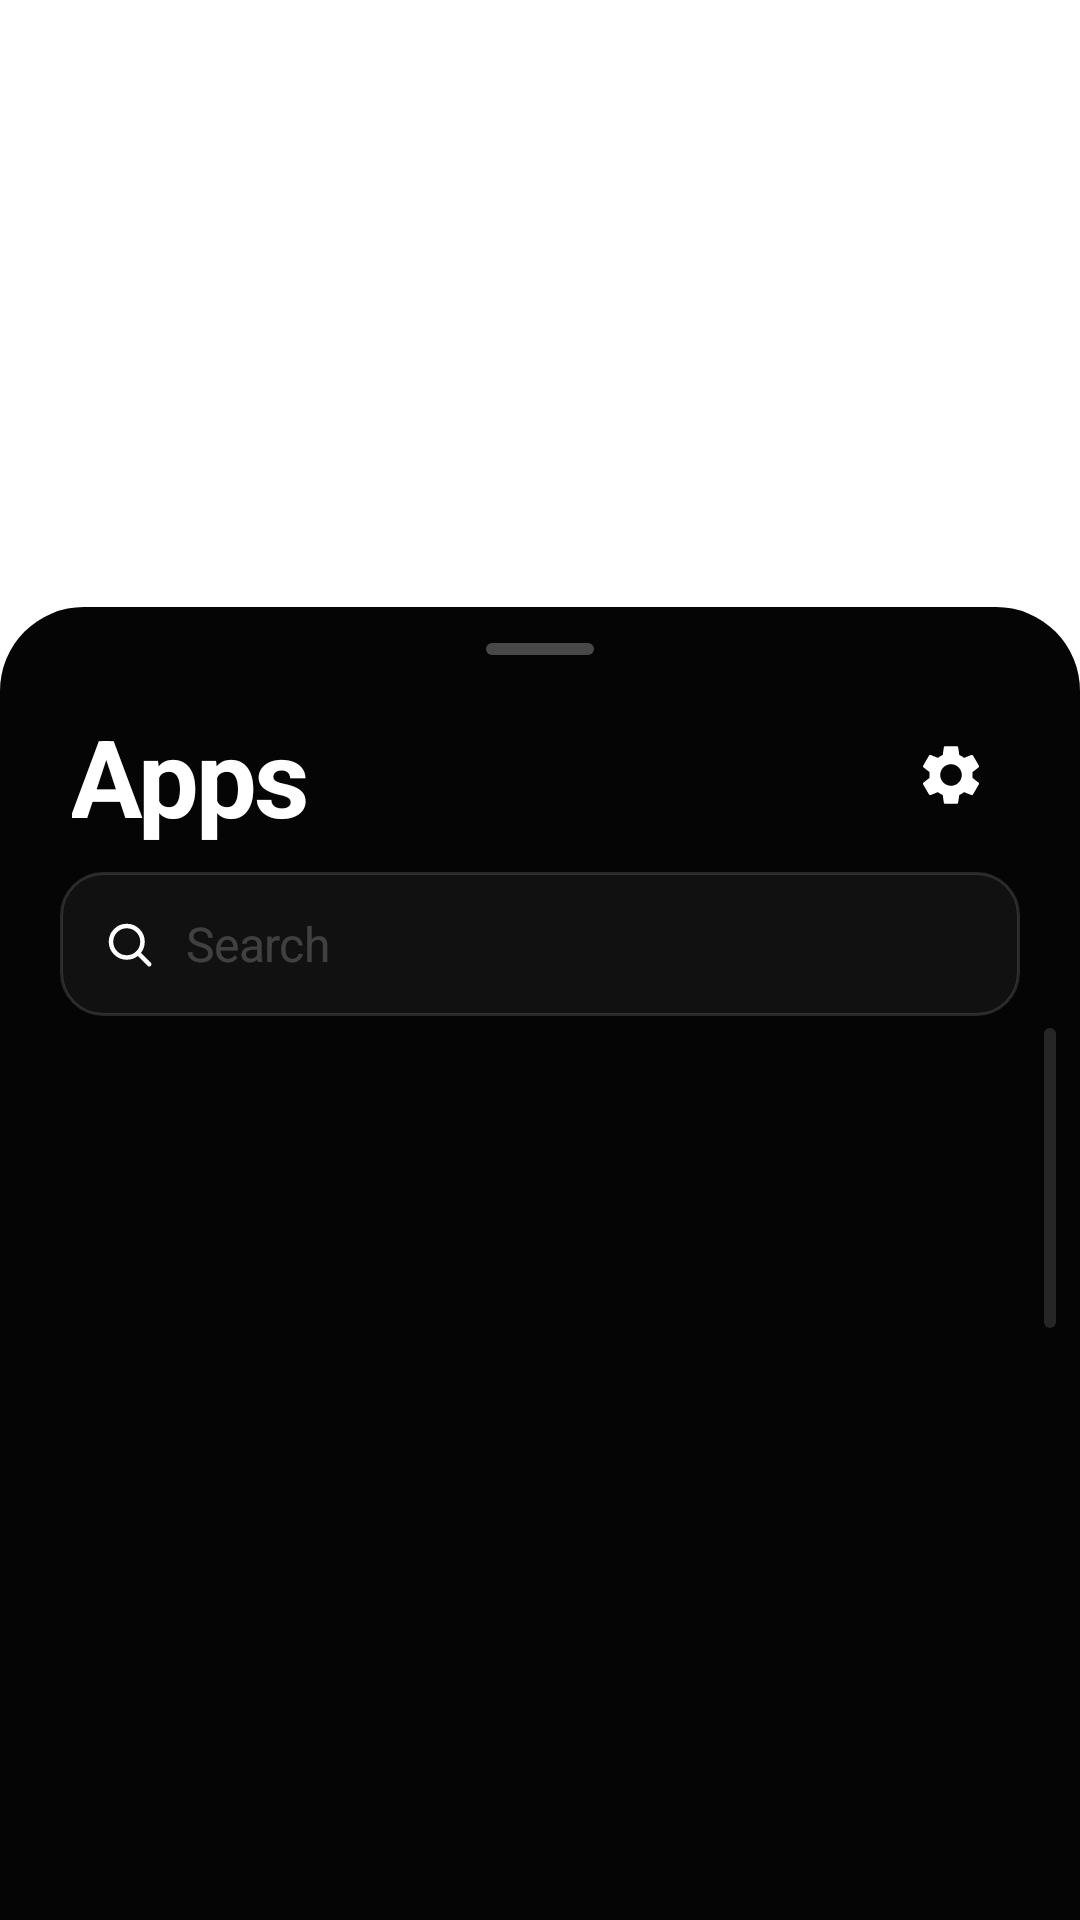

Where to tap for icons on this 1080px x 1920px app screen, as (x,y):
Settings: (951,775)
